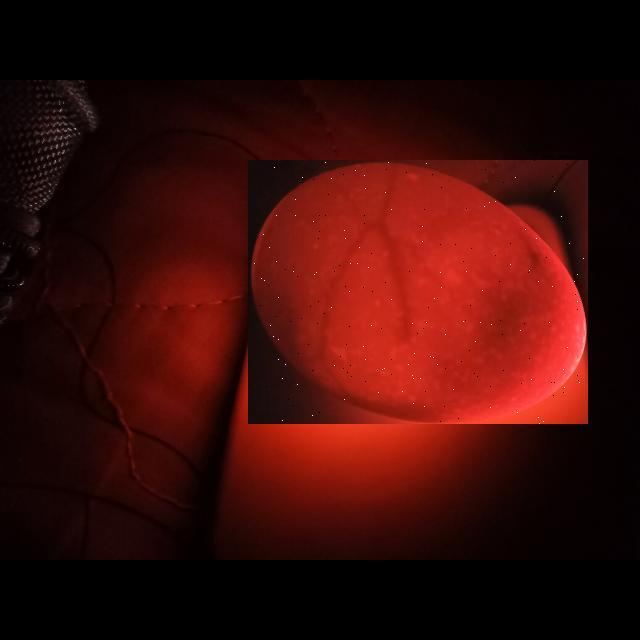Fertile: (248, 160, 588, 424)
